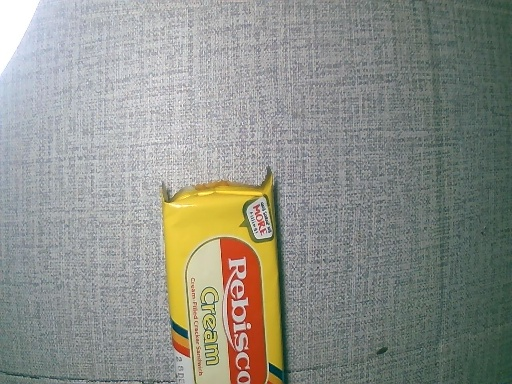plastic: (158, 166, 288, 384)
